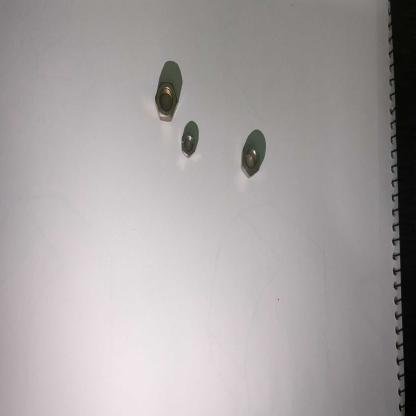NUTS: (152, 80, 179, 126), (242, 145, 261, 180), (180, 129, 196, 161)
